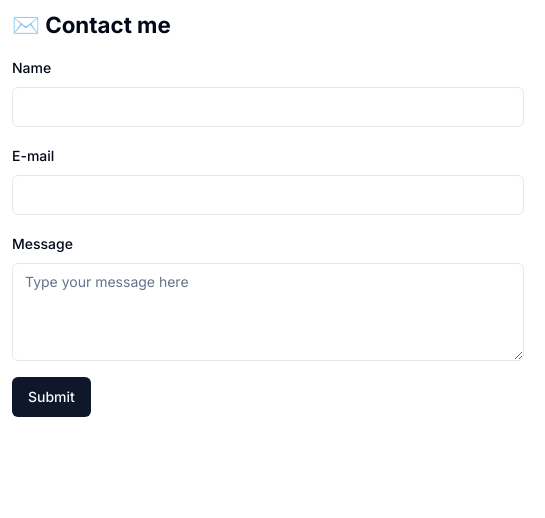
Scenario: ContactForm › should display validation errors when submitted values are empty
This screenshot has width=545, height=518.
Click the button: (51, 397) [12,377,91,417]
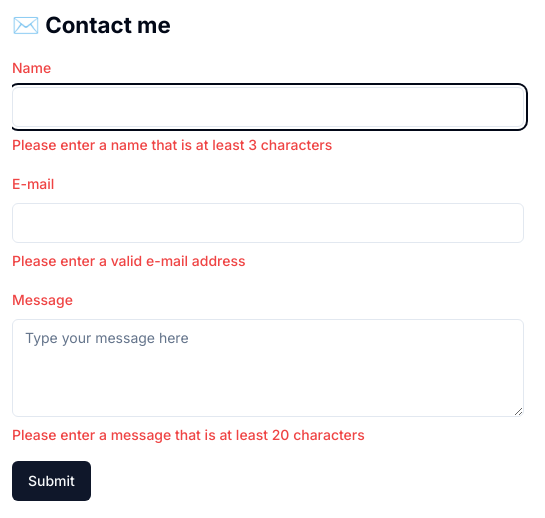
Check: the text "Please enter a name that is at least 3 characters" is shown, box [12,136,332,153]
Check: the text "Please enter a valid e-mail address" is shown, box [12,252,246,269]
Check: the text "Please enter a message that is at least 20 characters" is shown, box [12,426,365,443]
